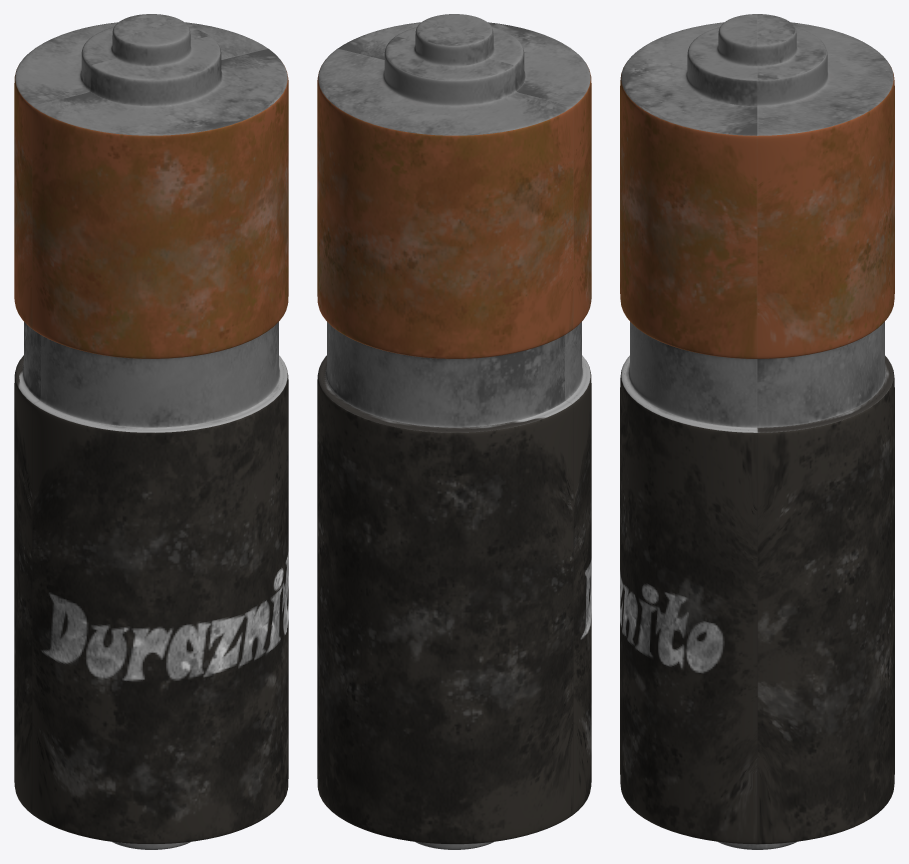
File: Pila.fbx
The picture shows the model from 3 angles, left to right: view 1: azimuth 30°, elevation 25°; view 2: azimuth 150°, elevation 25°; view 3: azimuth 270°, elevation 25°; orthographic projection.
Visible parts, largest first — view 1: Pila; view 2: Pila; view 3: Pila.
Boxes of the visible parts, x1,y1,x2,y2 form: Pila: [14, 14, 288, 849]; Pila: [317, 14, 591, 849]; Pila: [620, 14, 894, 849].
Bounding box in the file's own units: 1.37 × 4.38 × 1.37.
